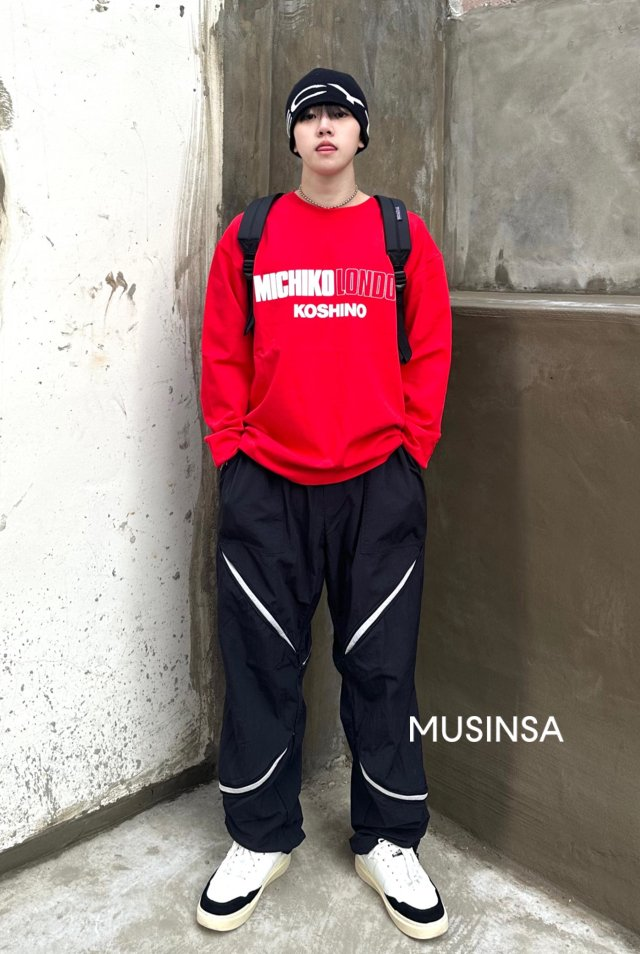Accessories: (296, 182, 364, 207)
Beanie: (280, 70, 372, 141)
Pants: (209, 446, 432, 853)
Shoes: (198, 836, 454, 940)
Sweatshirt: (199, 195, 450, 475)
